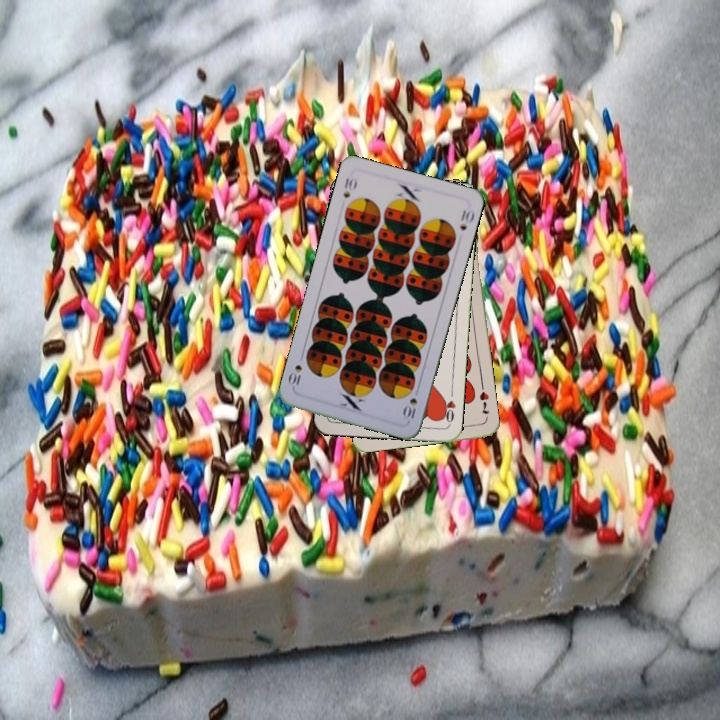H7: (475, 387, 492, 417)
HO: (438, 386, 458, 427)
S10: (399, 394, 420, 424), (339, 173, 360, 201)
